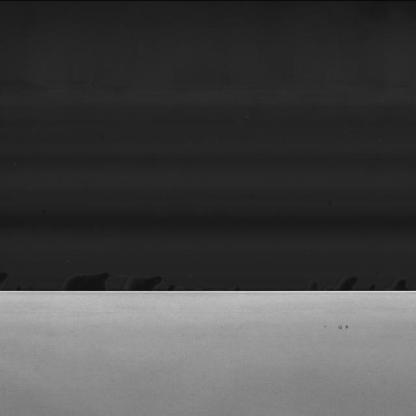inclusion: (320, 321, 355, 332)
